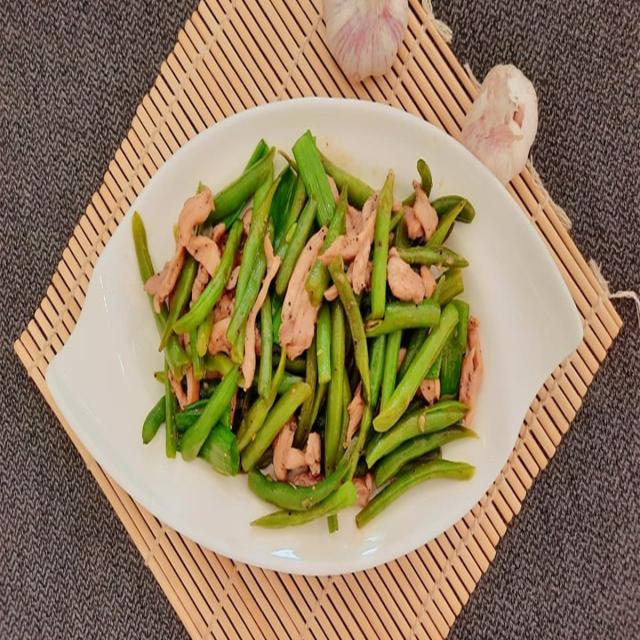dau que: (134, 130, 481, 532)
